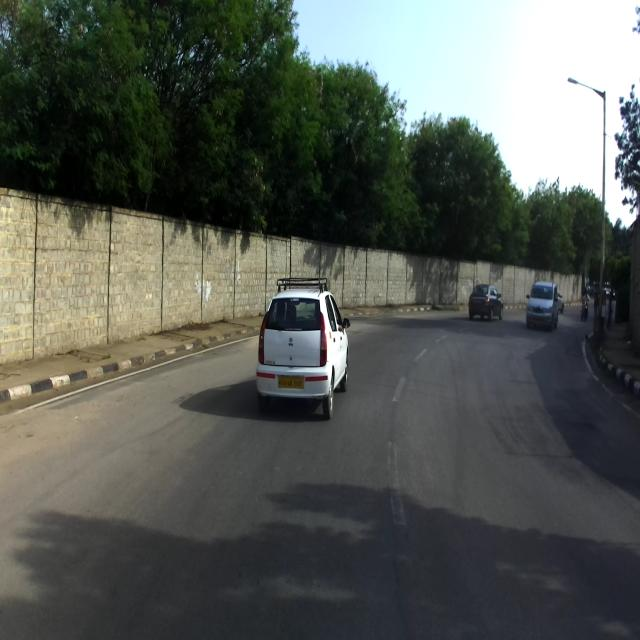car ahead at: (254, 265, 354, 426), (522, 269, 556, 332)
